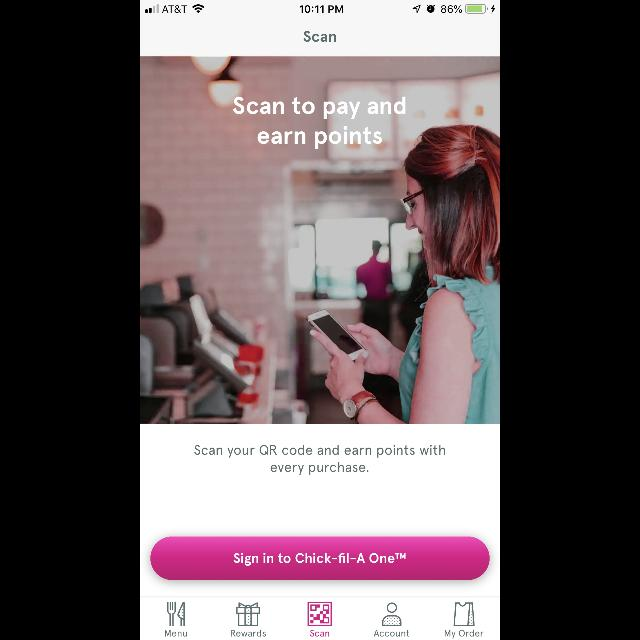icon: (236, 602, 260, 626), (382, 602, 402, 626)
image: (140, 56, 500, 424), (308, 602, 332, 626), (454, 602, 474, 626), (168, 602, 185, 626)
text: (232, 96, 406, 150), (194, 445, 446, 475), (304, 32, 336, 42), (444, 630, 484, 638), (374, 630, 408, 636), (232, 630, 266, 636), (165, 630, 187, 636), (310, 630, 330, 636)
textbutton: (150, 536, 490, 580)
uppertaskbar: (140, 0, 500, 14)
